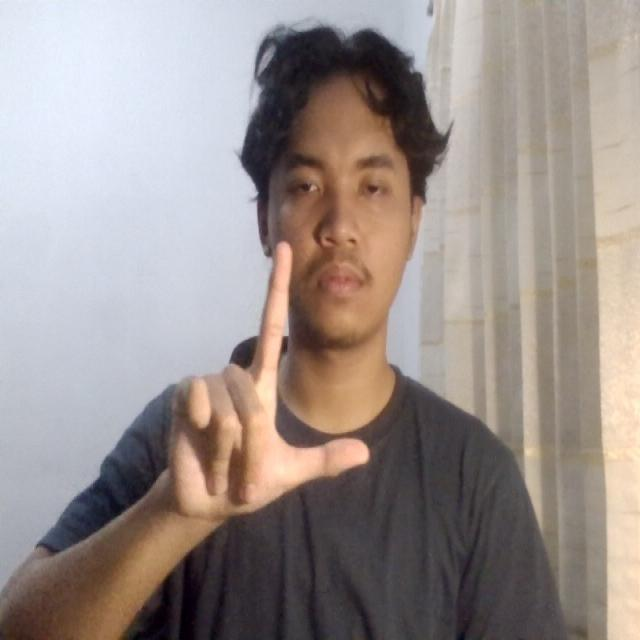I: (132, 237, 380, 540)
